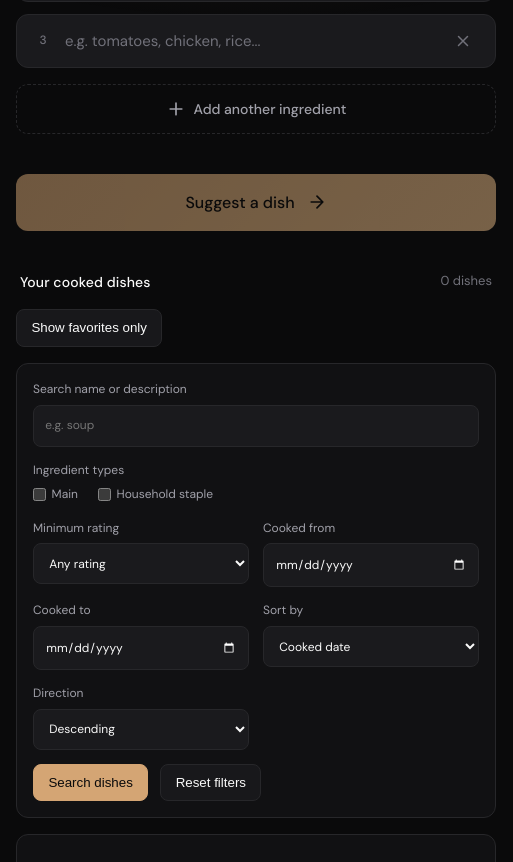
Test: Home cooked-dish search should › ignore an older search response resolved after the current request
(page scrolled)
In the search field labelled "Search name or description": (256, 426) [33,405,479,447], type "old"
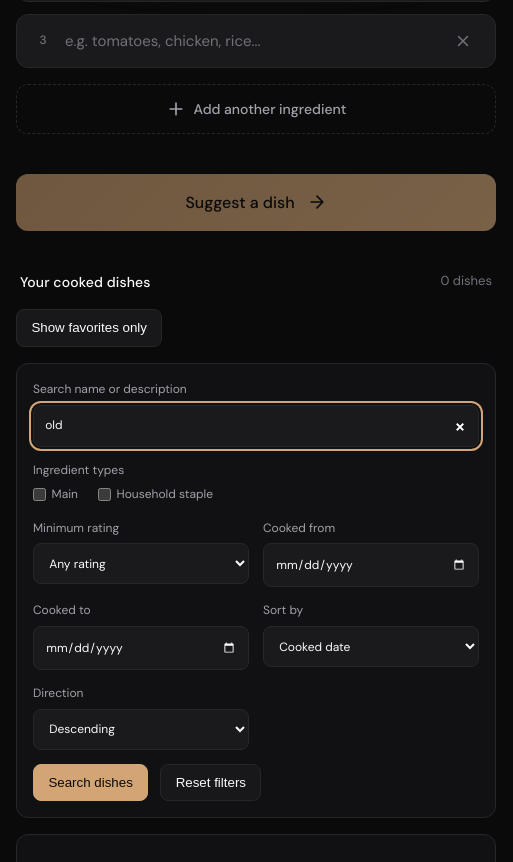
Submit the form named "Search dishes", box [16,363,496,818]
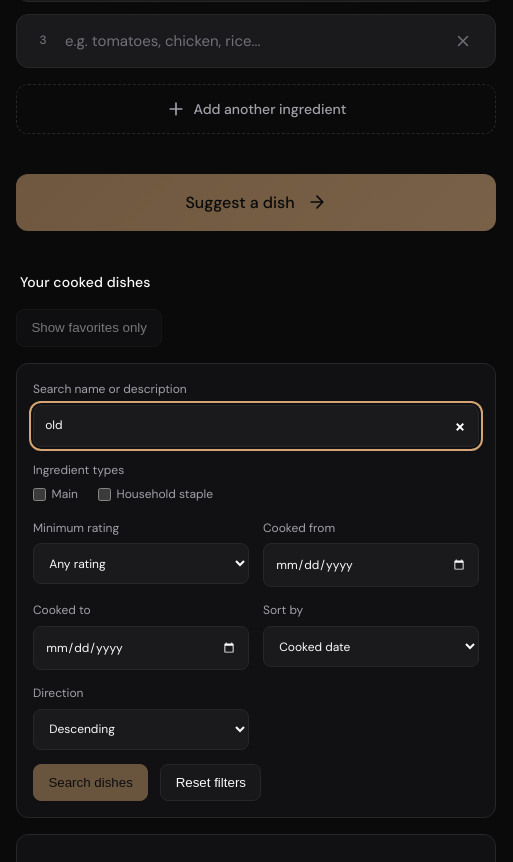
Replace the text in the search field labelled "Search name or description" with "current": (256, 426) [33,405,479,447]
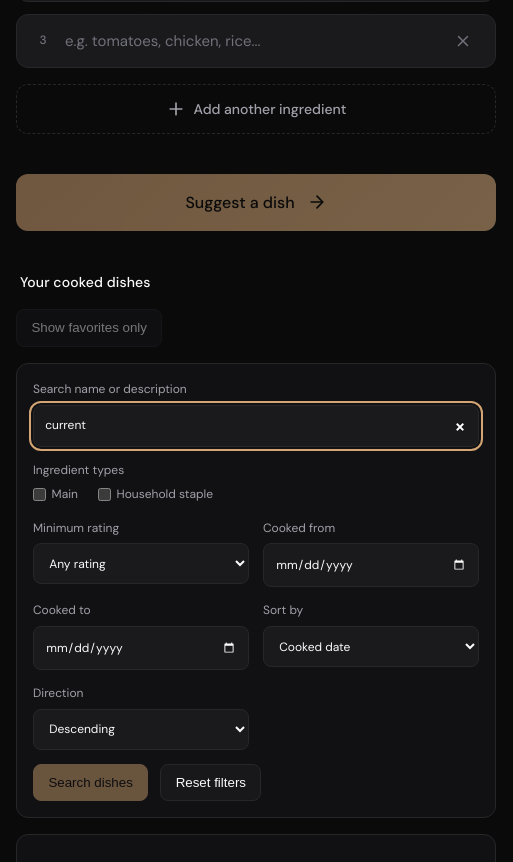
Submit the form named "Search dishes", box [16,363,496,818]
(page scrolled)
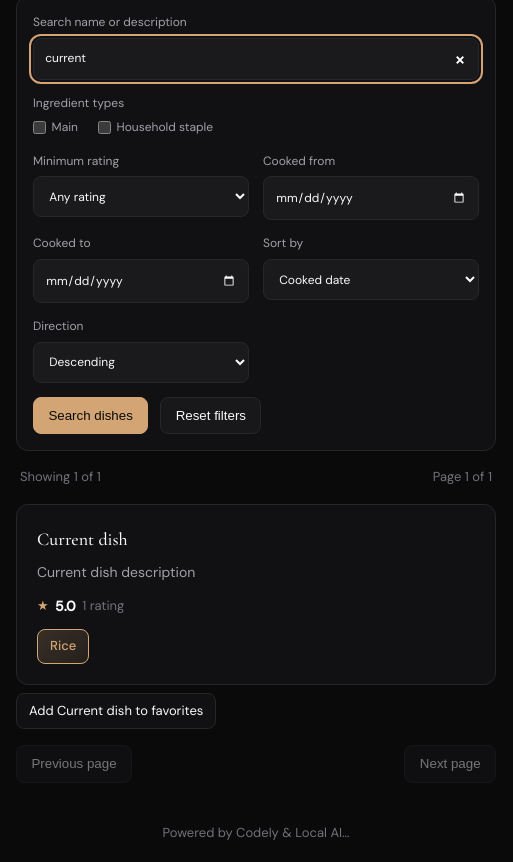
Now the heading "Current dish" is shown, box [37,528,128,550]
